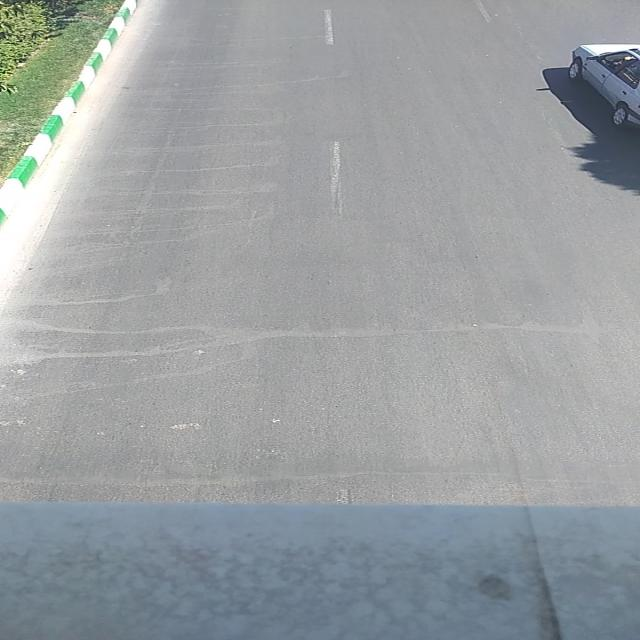car: (567, 43, 640, 129)
